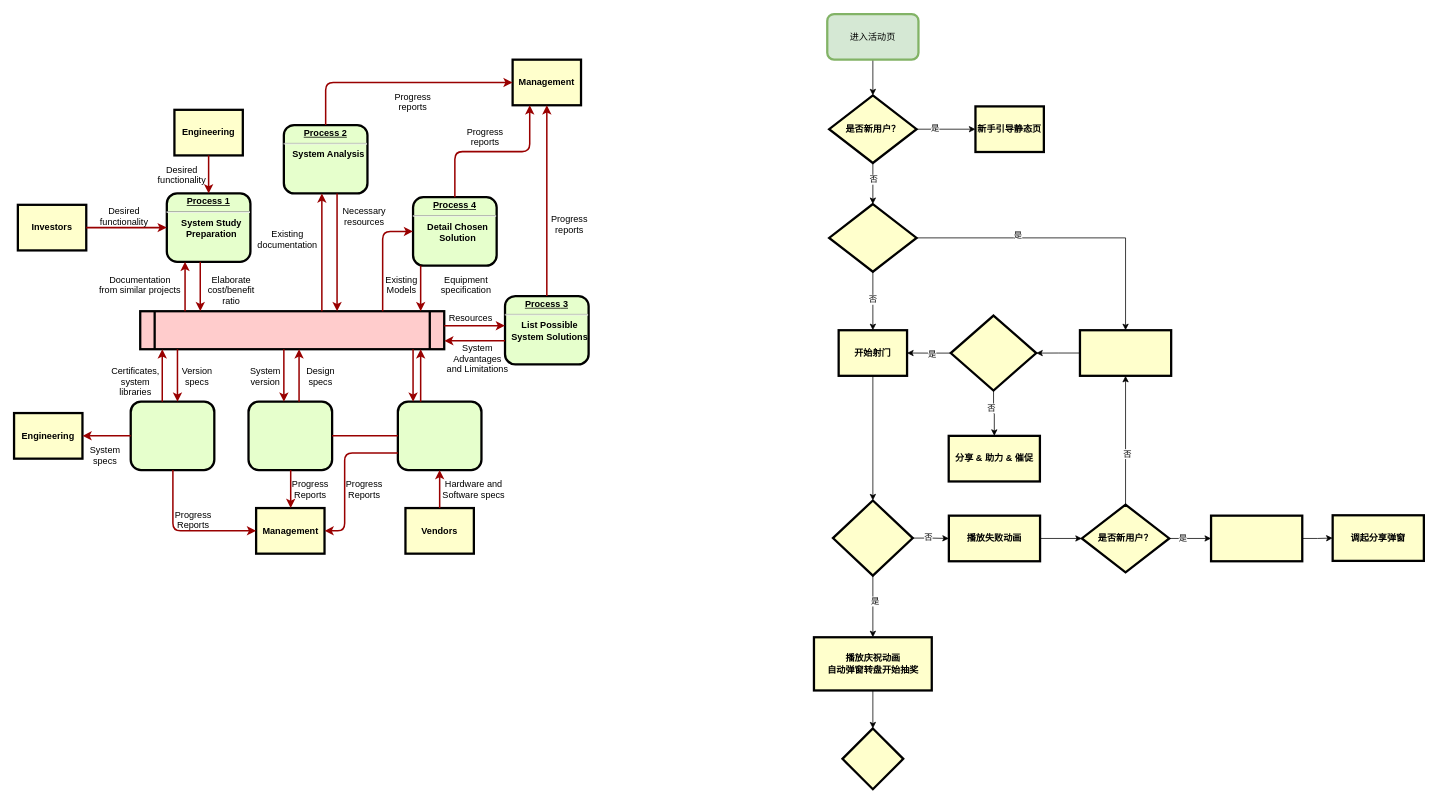
The diagram is 1438 pixels wide and 803 high, and some of its shapes have lost their labels. The shapes that lost their labels are listed below. From the top down, each one's centre as x and y in pixels, then its label:
point 872,237: 是否排队？
point 292,330: ON-DEMAND SYSTEM DEVELOPMENT
point 993,352: 是否排队完成？
point 1125,353: 显示排队进度
point 172,435: Process 6 New System Construction
point 290,435: Process 7 New System Startup and Testing
point 439,435: Process 5 New System Design
point 872,537: 是否进球？
point 1256,538: 排队引导 助力分享引导
point 872,758: 是否
